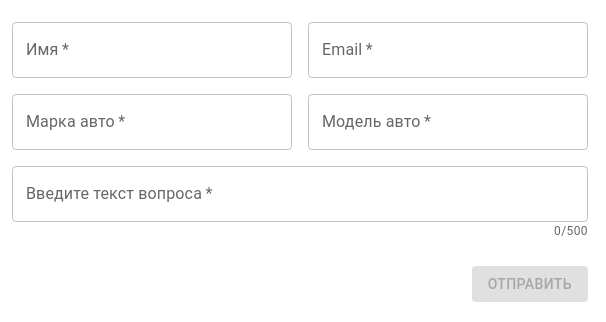
Test: SubmitQuestionForm › send button is enabled if all fields are present
Step 1. Type "Дима" into the field with test id "user" → coordinates (152, 50), box [12, 22, 292, 78]
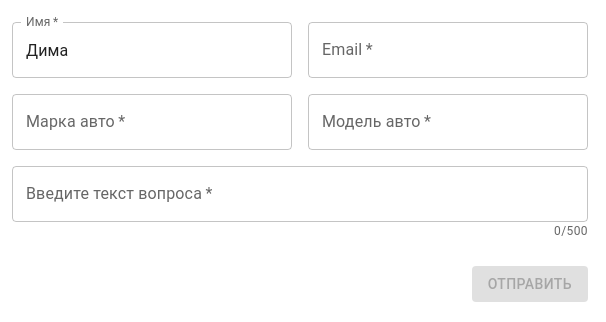
Step 2. Type "Дима" into the field with test id "email" → coordinates (448, 50), box [308, 22, 588, 78]
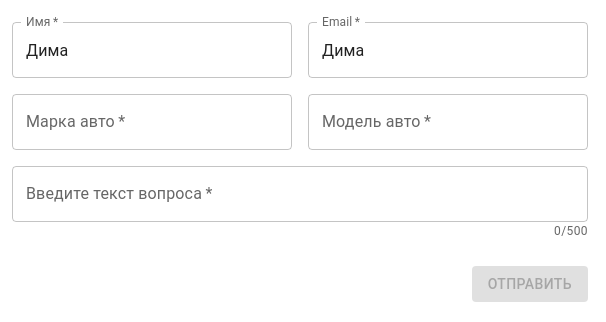
Step 3. Type "Дима" into the field with test id "carBrand" → coordinates (152, 122), box [12, 94, 292, 150]
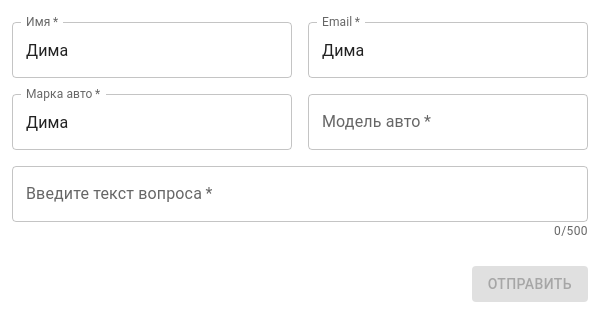
Step 4. Type "Дима" into the field with test id "carModel" → coordinates (448, 122), box [308, 94, 588, 150]
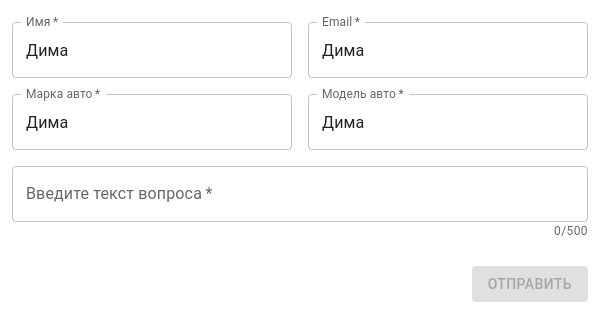
Step 5. Type "Дима" into the text box with test id "text" → coordinates (300, 194), box [26, 182, 574, 206]
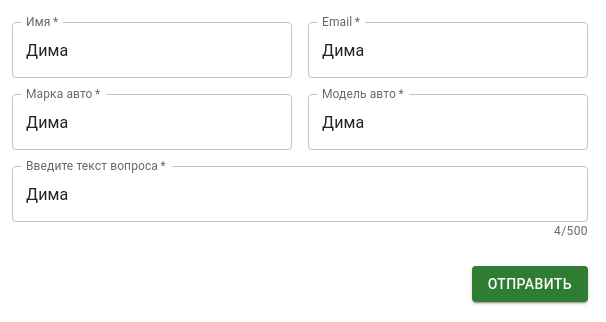
Expected: the button "Отправить" is enabled, [472, 266, 588, 302]
